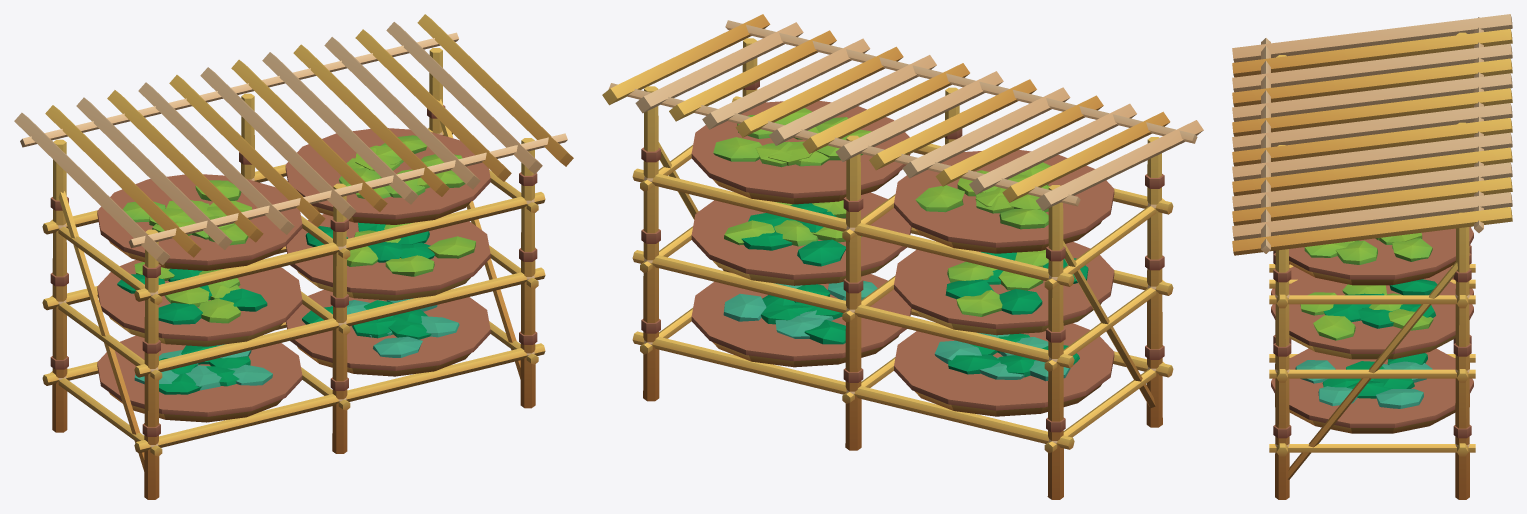
File: tea_drying_rack.glb
3 renders of one model, left to right at view 1: azimuth 30°, elevation 25°; view 2: azimuth 150°, elevation 25°; view 3: azimuth 270°, elevation 25°, orthographic. The views are drawn at different scales.
Parts seen in each view (by area): view 1: tea_drying_rack; view 2: tea_drying_rack; view 3: tea_drying_rack.
Boxes of the visible parts, x1=… form: tea_drying_rack: x1=14, y1=14, x2=573, y2=499; tea_drying_rack: x1=602, y1=14, x2=1203, y2=499; tea_drying_rack: x1=1232, y1=14, x2=1512, y2=499.
Bounding box in the file's own units: 3 × 2 × 1.71.
Materials: 1 (1 with a texture image).
